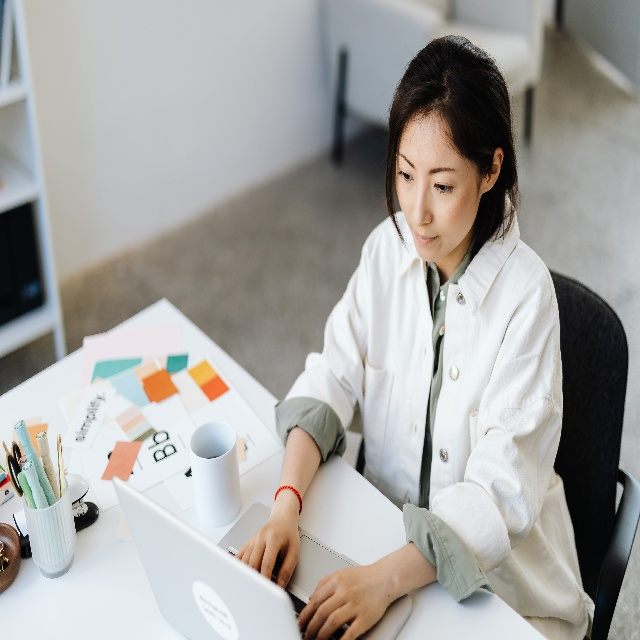Sin_guantes: (296, 559, 386, 640), (233, 506, 301, 589)
